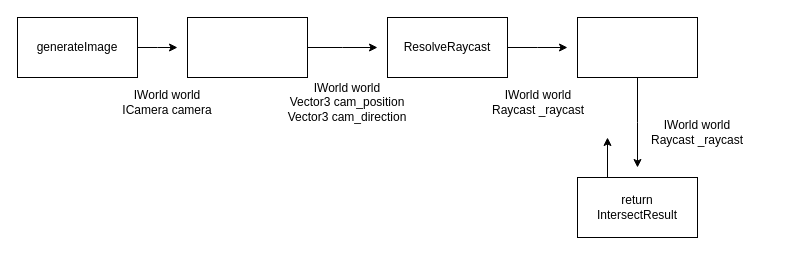
Some shapes in this 785 by 255 pixel diagram are drawn without their labels. The box of each missing label's shape, as (x1, y1, x2, y2) in pixels:
Get Pixel Color: (186, 16, 308, 78)
IntersectManager: (576, 16, 698, 78)
